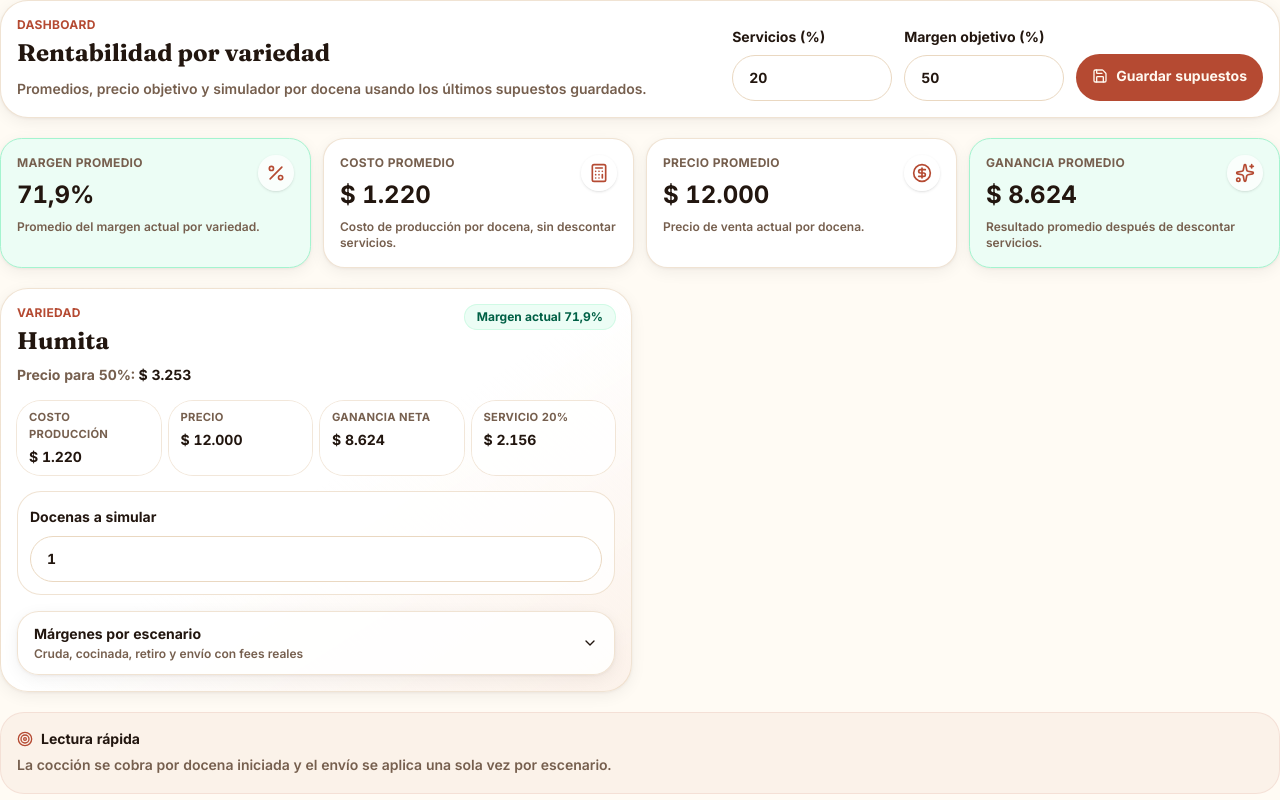
Test case: FinanceDashboard › saves dashboard assumptions and uses the saved values in target price
The width and height of the screenshot is (1280, 800).
Step 1. Replace the text in the number field labelled "Servicios (%)" with "25" → coordinates (812, 78), box [732, 55, 892, 101]
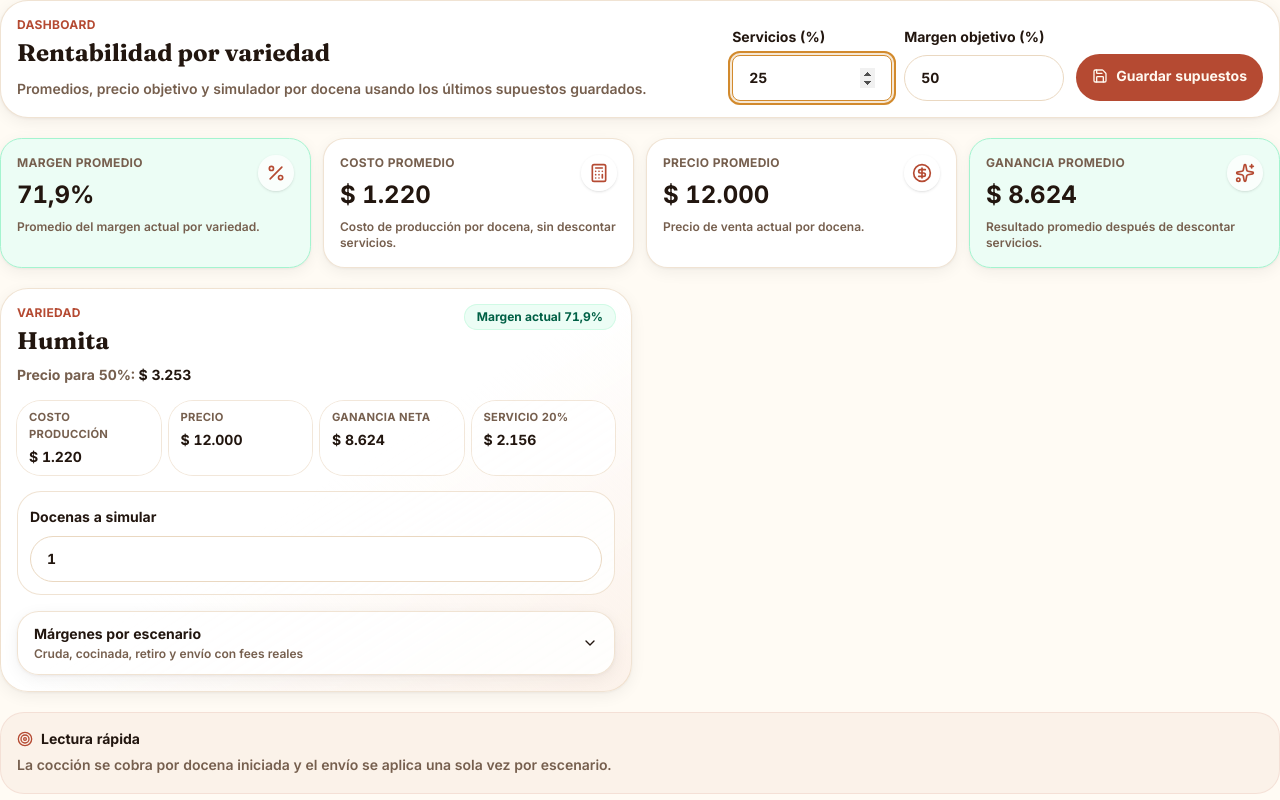
Step 2. Replace the text in the number field labelled "Margen objetivo (%)" with "40" → coordinates (984, 78), box [904, 55, 1064, 101]
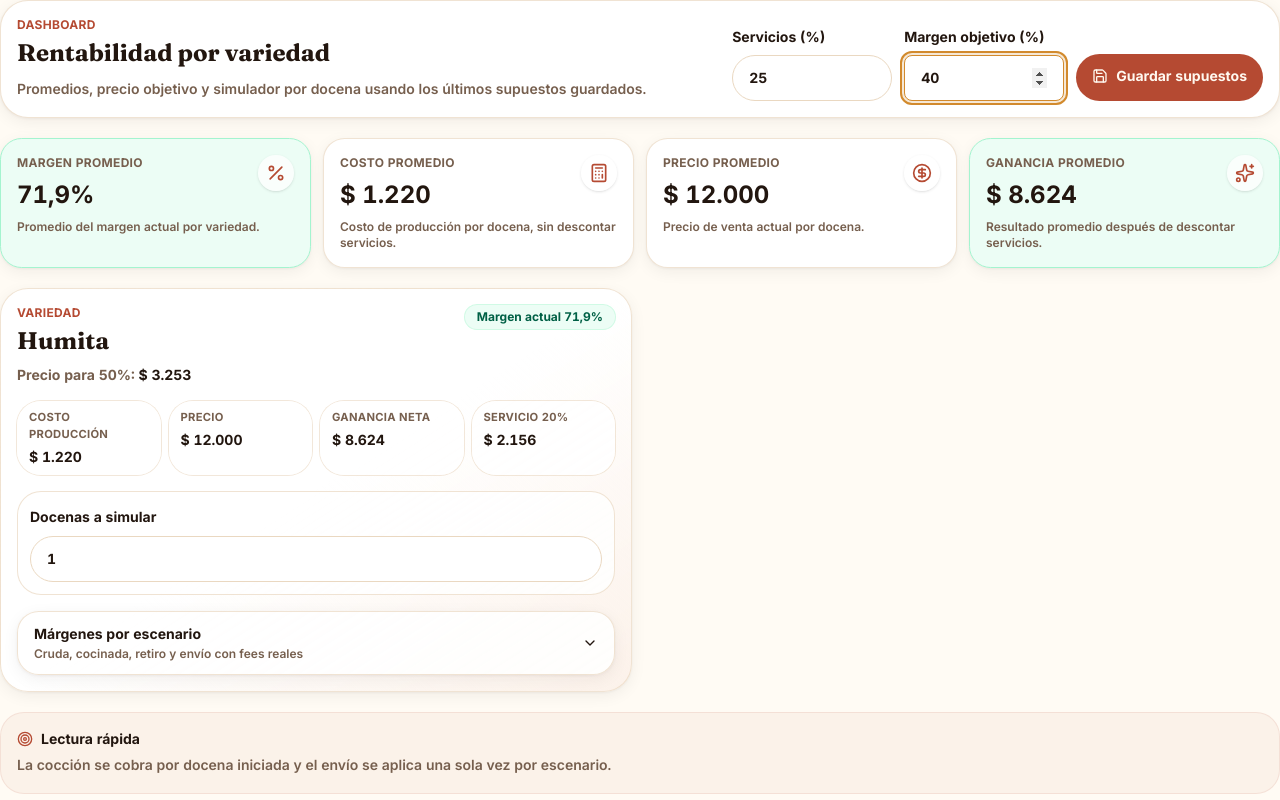
Step 3. Click the button "Guardar supuestos" → coordinates (1170, 78), box [1076, 54, 1263, 101]
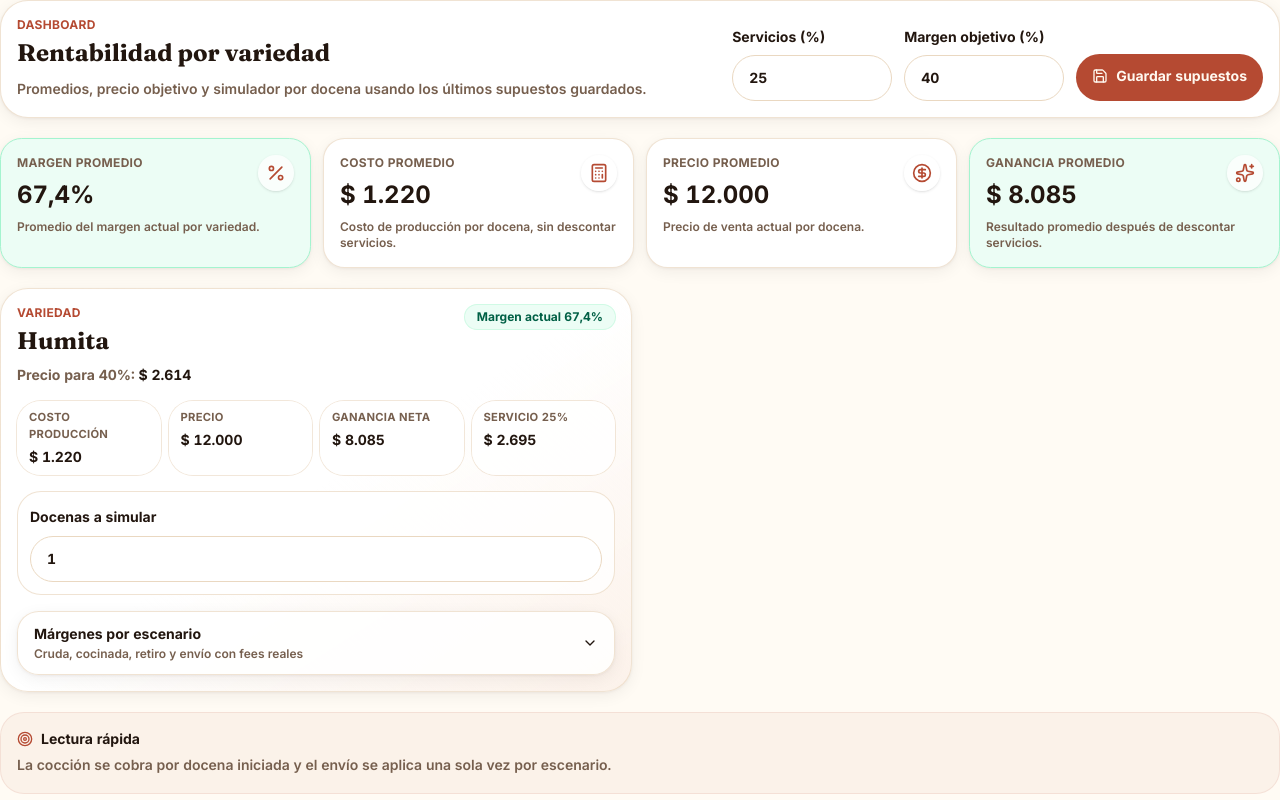
Expected: the text "Precio para 40%: $ 2.614" is shown, [17, 365, 191, 385]
Expected: the text "$ 2.614" is shown, [138, 366, 191, 383]
